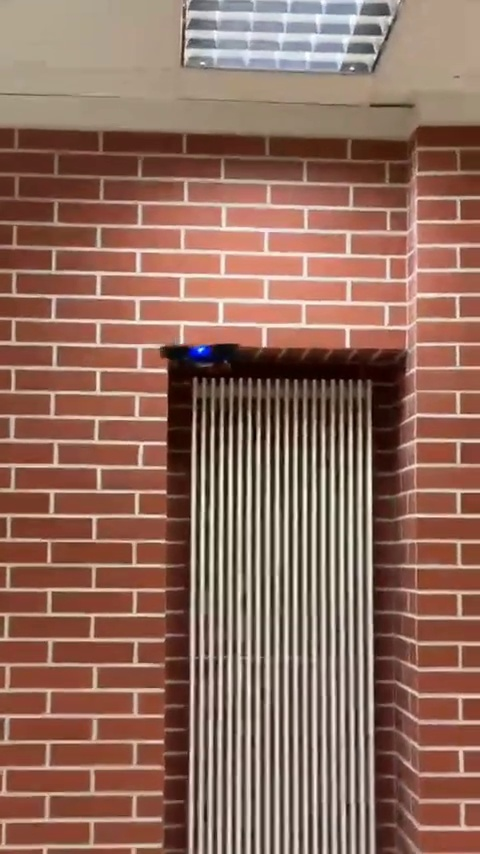drone: (161, 342, 243, 367)
